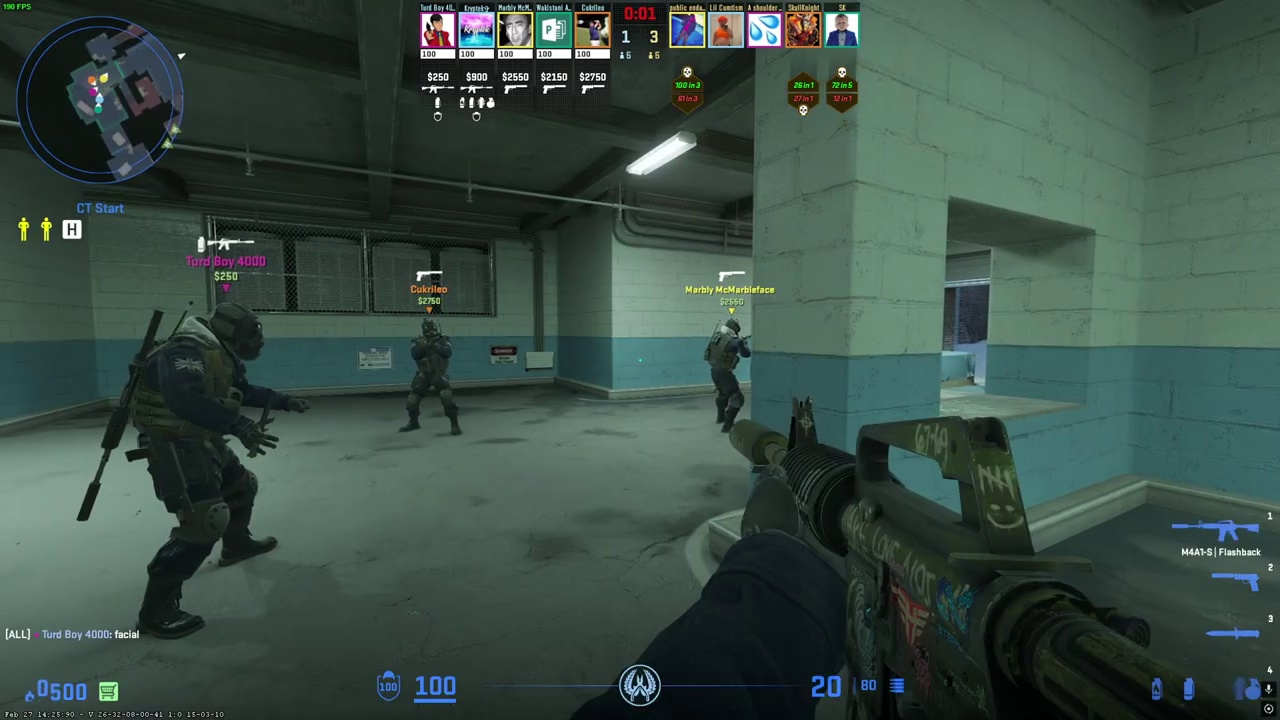CT: (123, 300, 285, 637), (401, 318, 461, 435), (707, 318, 748, 430)
